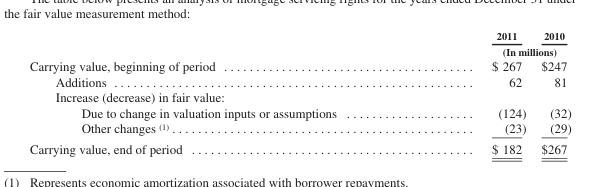table: (28, 29, 570, 155)
table column: (28, 29, 413, 155), (413, 29, 533, 155), (533, 29, 570, 155)
table column header: (28, 29, 570, 57)
table projected row header: (28, 88, 570, 104)
table row: (28, 119, 570, 138), (28, 138, 570, 155), (28, 57, 570, 73), (28, 88, 570, 104), (28, 73, 570, 88), (28, 104, 570, 119), (28, 29, 570, 43), (28, 43, 570, 57)
table spanning cell: (413, 43, 570, 57)
